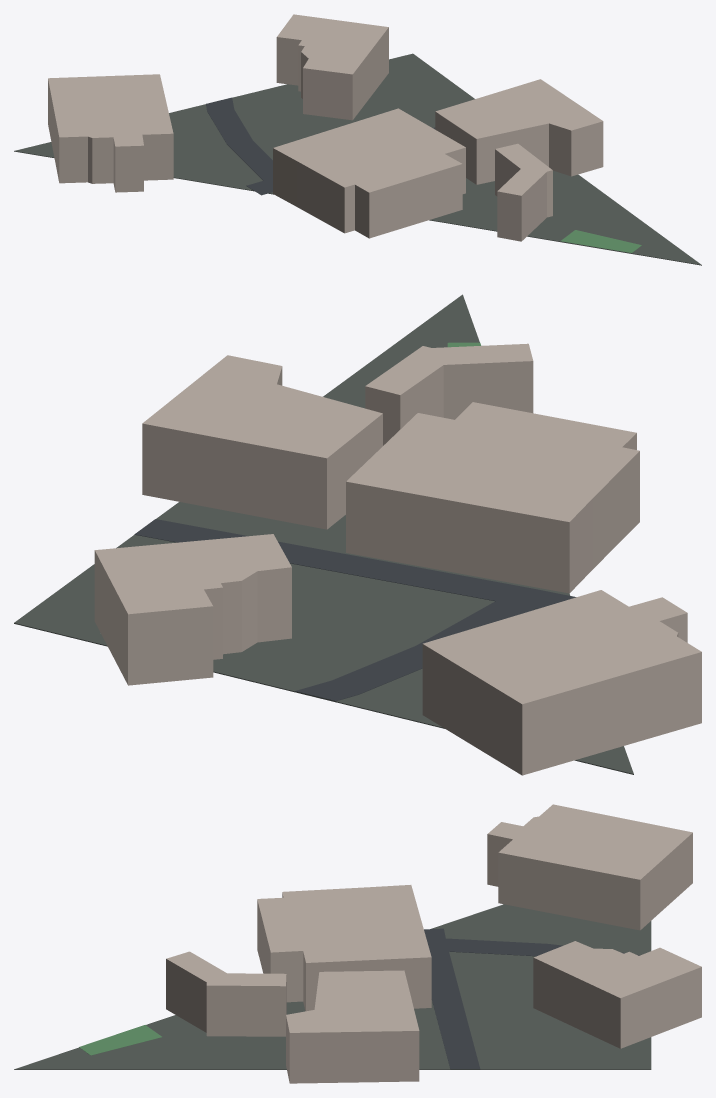
The model's file is tile_001_002.glb.
3 views of the same model, one above another, from view 1: azimuth 30°, elevation 25°; view 2: azimuth 150°, elevation 25°; view 3: azimuth 270°, elevation 25° (orthographic). The views are drawn at different scales.
Parts seen in each view (by area): view 1: tile_001_002_buildings_residential, tile_001_002_ground, tile_001_002_roads, tile_001_002_open_spaces; view 2: tile_001_002_buildings_residential, tile_001_002_ground, tile_001_002_roads; view 3: tile_001_002_buildings_residential, tile_001_002_ground, tile_001_002_roads, tile_001_002_open_spaces.
Boxes of the visible parts, x1=… form: tile_001_002_buildings_residential: x1=48, y1=14, x2=603, y2=241; tile_001_002_ground: x1=14, y1=53, x2=701, y2=265; tile_001_002_roads: x1=206, y1=97, x2=435, y2=195; tile_001_002_open_spaces: x1=560, y1=230, x2=641, y2=252; tile_001_002_buildings_residential: x1=94, y1=343, x2=701, y2=775; tile_001_002_ground: x1=14, y1=294, x2=633, y2=774; tile_001_002_roads: x1=134, y1=519, x2=576, y2=701; tile_001_002_buildings_residential: x1=166, y1=804, x2=701, y2=1083; tile_001_002_ground: x1=14, y1=904, x2=651, y2=1069; tile_001_002_roads: x1=424, y1=928, x2=639, y2=1069; tile_001_002_open_spaces: x1=79, y1=1025, x2=162, y2=1055.
Size of the model in its own units: 116 by 12.16 by 148.
